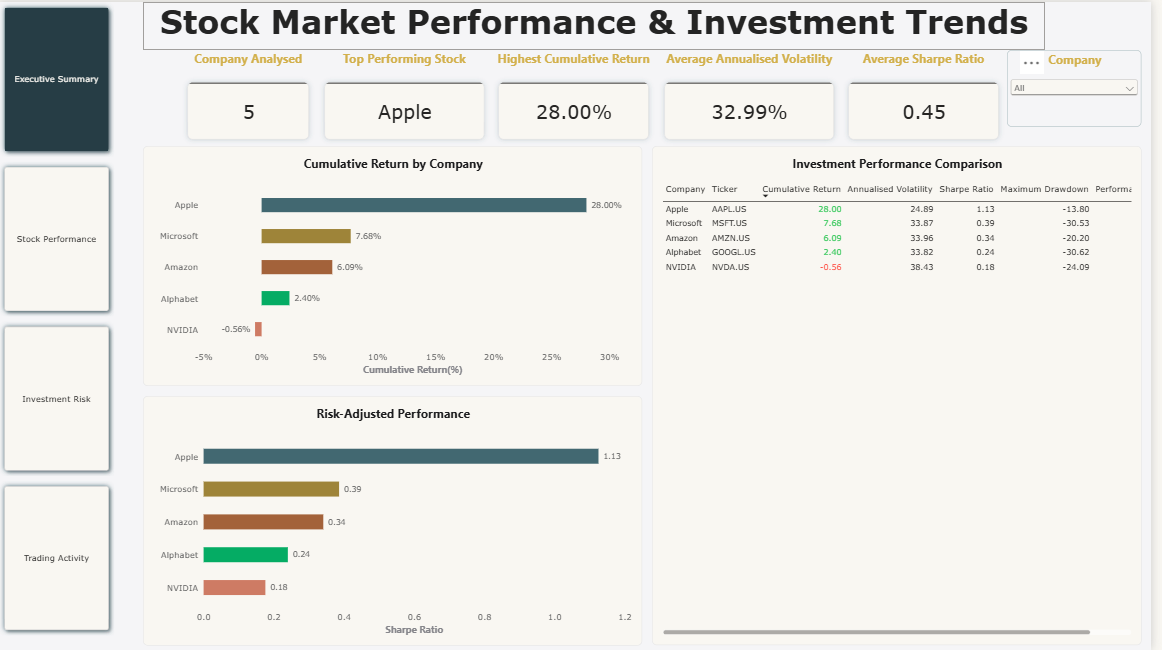

The page's visual inventory and layout, read from the dashboard file:
{"tool":"powerbi","page":{"name":"Executive Summary","canvas":[1920,1080],"ordinal":0},"visuals":[{"type":"textbox","box":[240,0,1504,80],"z":0},{"type":"cardVisual","title":"Company Analysed","fields":{"Data":["Measure Table.Total Companies"]},"box":[304,80,224,160],"z":1000},{"type":"cardVisual","title":"Top Performing Stock","fields":{"Data":["Measure Table.Best Performing Company"]},"box":[531.2,80,288,160],"z":2000},{"type":"cardVisual","title":"Average Annualised Volatility","fields":{"Data":["Measure Table.Average Annualised Volatility"]},"box":[1097.6,80,304,160],"z":3000},{"type":"cardVisual","title":"Highest Cumulative Return","fields":{"Data":["Measure Table.Highest_Cumulative_Return"]},"box":[822.4,80,272,160],"z":4000},{"type":"cardVisual","title":"Average Sharpe Ratio","fields":{"Data":["Measure Table.Average Sharpe Ratio"]},"box":[1404.8,80,272,160],"z":5000},{"type":"clusteredBarChart","title":"Cumulative Return by Company","fields":{"Category":["DimCompany.CompanyName"],"Y":["Measure Table.Average_Cumulative_Return"]},"box":[240,240,832,400],"z":6000},{"type":"clusteredBarChart","title":"Risk-Adjusted Performance","fields":{"Category":["DimCompany.CompanyName"],"Y":["Sum(vw_Stock_Risk_Analysis.SharpeRatio)"]},"box":[240,656,832,416],"z":7000},{"type":"tableEx","title":"Investment Performance Comparison","fields":{"Values":["DimCompany.CompanyName","DimCompany.Ticker","Sum(vw_Stock_Performance.CumulativeReturn)","Sum(vw_Stock_Performance.AnnualisedVolatility)","Sum(vw_Stock_Risk_Analysis.SharpeRatio)","Sum(vw_Stock_Risk_Analysis.MaximumDrawdown)","Sum(vw_Stock_Performance.PerformanceRank)"]},"box":[1088,240,816,832],"z":8000},{"type":"slicer","title":"Company","fields":{"Values":["DimCompany.CompanyName"]},"box":[1680,80,224,128],"z":9000},{"type":"pageNavigator","box":[0,0,192,1056],"z":10000}]}

Visuals, with their boxes in screenshot pixels (x1, y1, x2, y2), scaled from the page's 1920x1080 canvas onto the 1162x650 screenshot:
textbox: box(145, 0, 1055, 48)
"Company Analysed" cardVisual: box(184, 48, 320, 144)
"Top Performing Stock" cardVisual: box(321, 48, 496, 144)
"Average Annualised Volatility" cardVisual: box(664, 48, 848, 144)
"Highest Cumulative Return" cardVisual: box(498, 48, 662, 144)
"Average Sharpe Ratio" cardVisual: box(850, 48, 1015, 144)
"Cumulative Return by Company" clusteredBarChart: box(145, 144, 649, 385)
"Risk-Adjusted Performance" clusteredBarChart: box(145, 395, 649, 645)
"Investment Performance Comparison" tableEx: box(658, 144, 1152, 645)
"Company" slicer: box(1017, 48, 1152, 125)
pageNavigator: box(0, 0, 116, 636)
